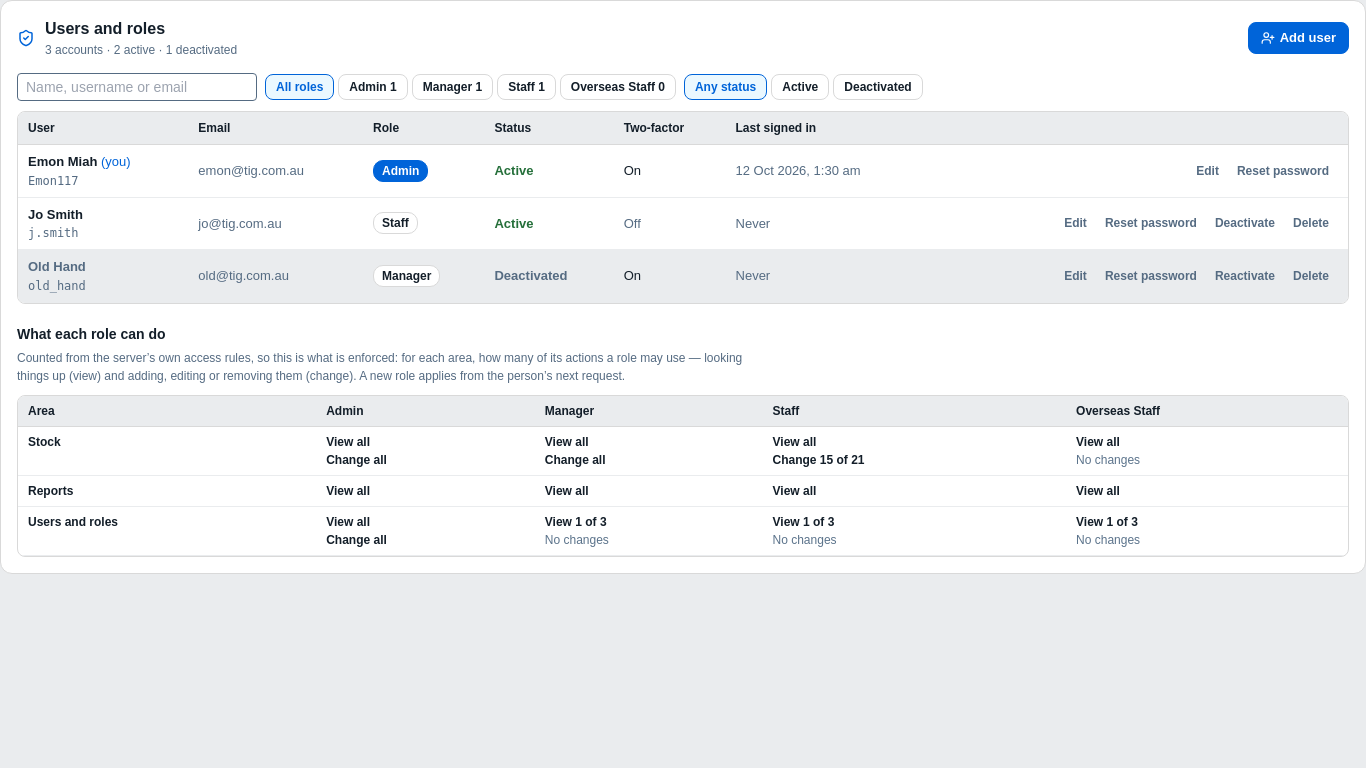
Test case: resetting a password › a password that will not do is not sent
expect the text "Jo Smith" is shown: met, box [28,206,83,222]
Click the button with aria-label "Reset password for j.smith".
click(1151, 223)  # box [1096,210,1206,236]
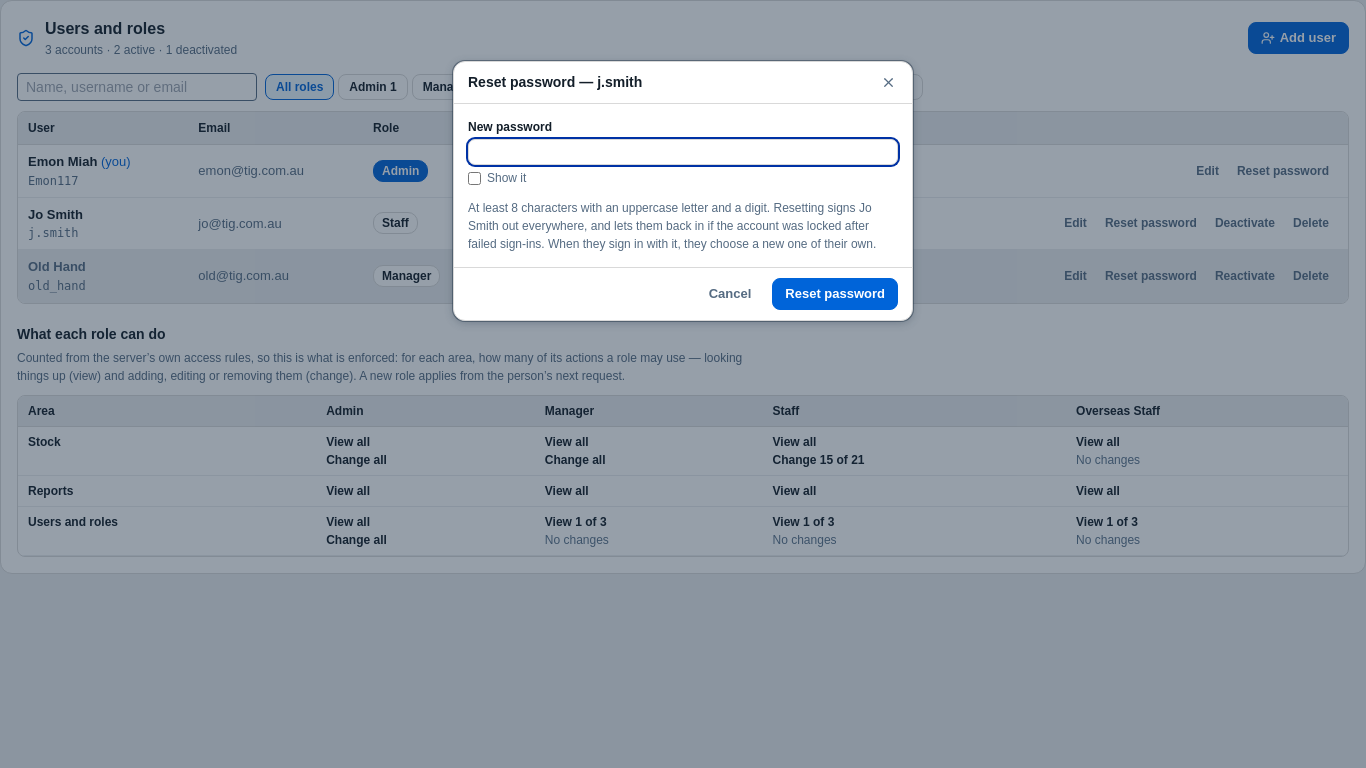
Type "weak" into the password field labelled "New password".
click(683, 152); type("weak")  # box [468,139,898,165]
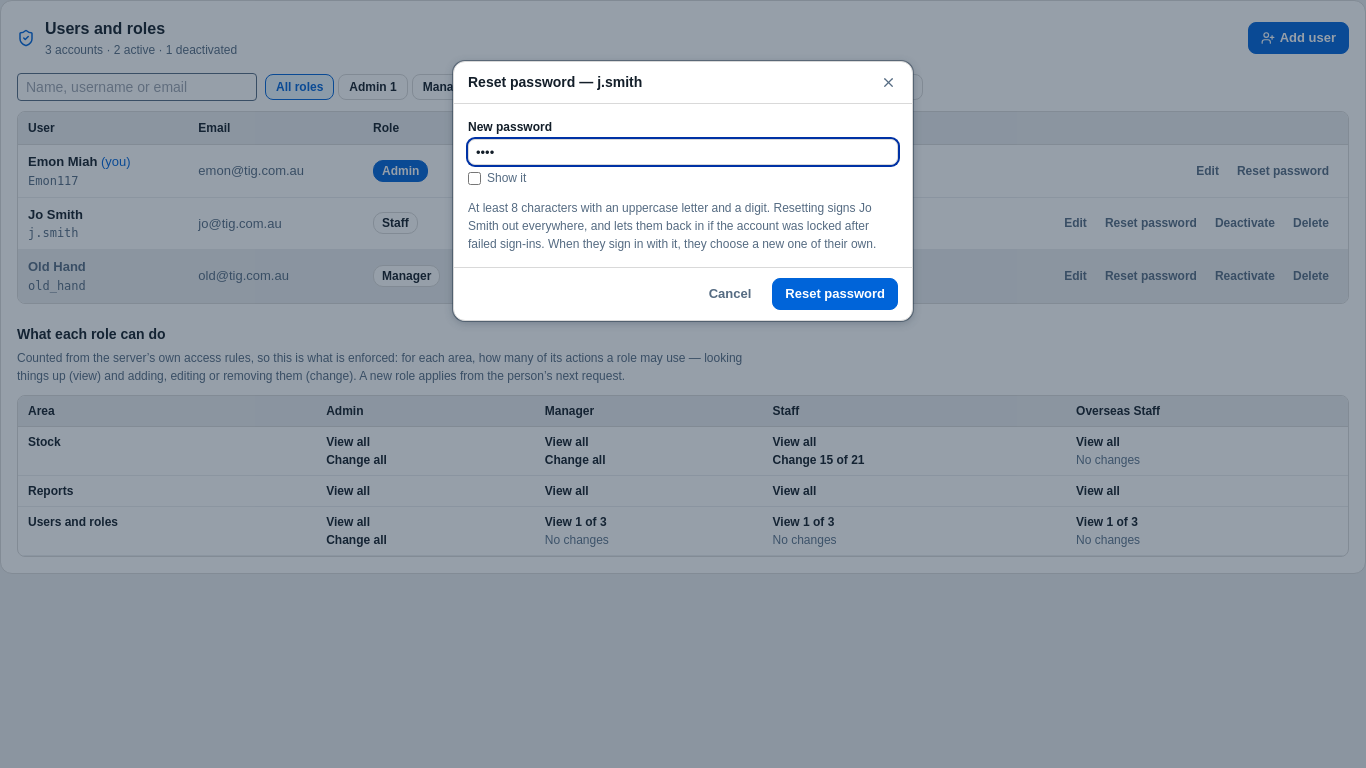
Click the button "Reset password".
click(835, 294)  # box [772,278,898,310]
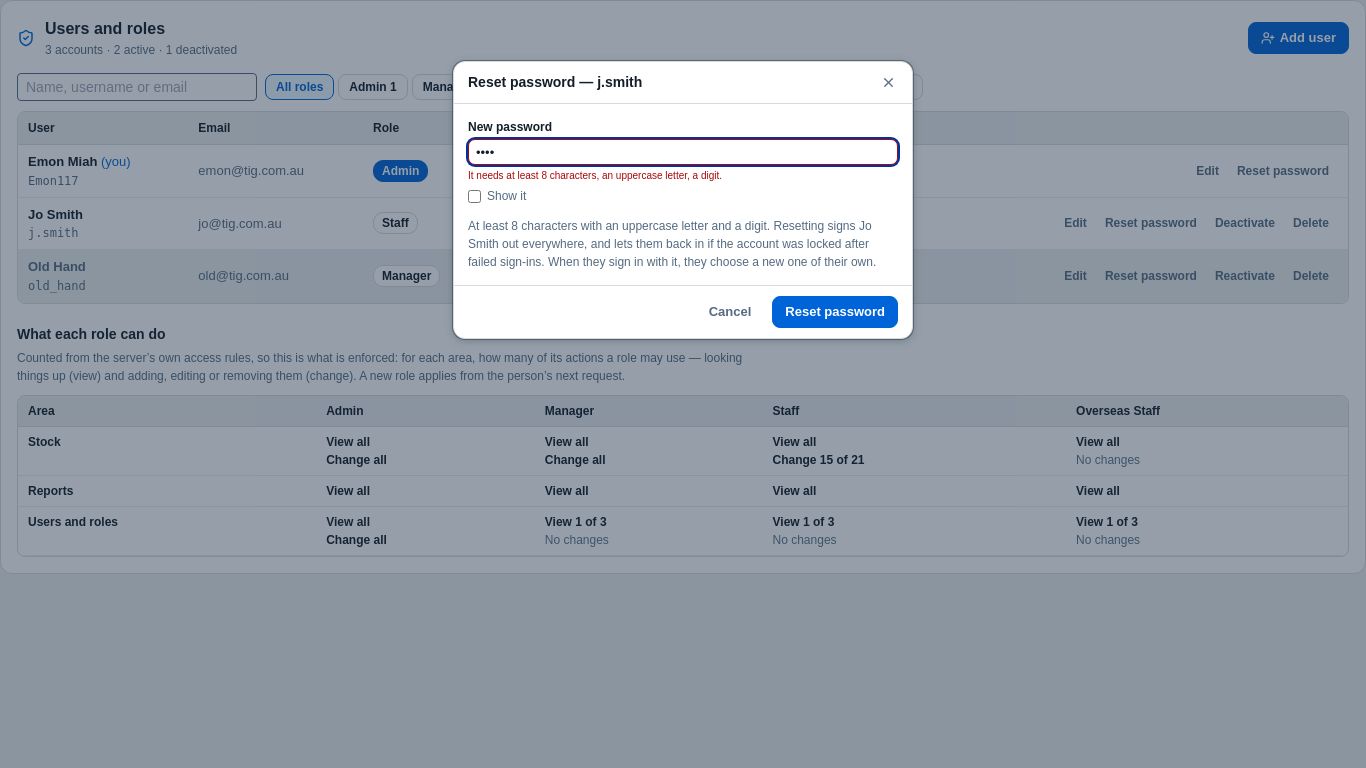
expect the text "It needs at least 8 characters, an uppercase letter, a digit." is shown: met, box [468,170,722,181]
